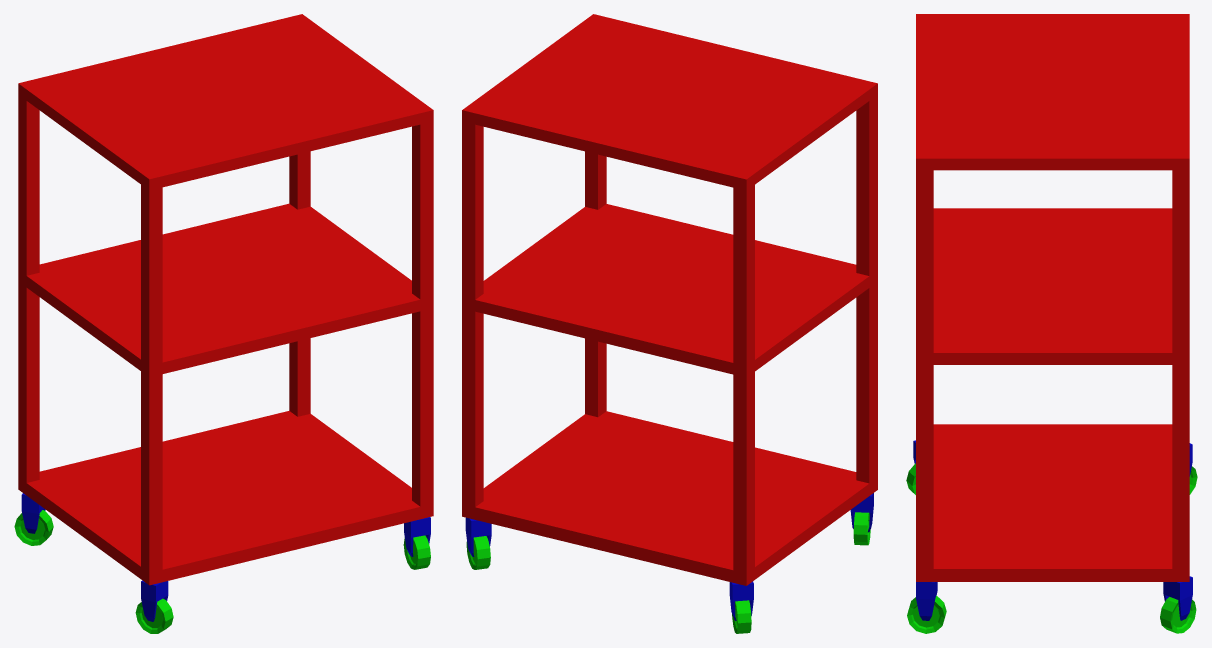
Rendered from Trolley.fbx.
The picture shows the model from 3 angles, left to right: view 1: azimuth 30°, elevation 25°; view 2: azimuth 150°, elevation 25°; view 3: azimuth 270°, elevation 25°; orthographic projection. The views are drawn at different scales.
Visible parts, largest first — view 1: Cylinder.008; view 2: Cylinder.008; view 3: Cylinder.008.
Boxes of the visible parts, <box> form: Cylinder.008: <box>14,14,433,633</box>; Cylinder.008: <box>462,14,877,633</box>; Cylinder.008: <box>906,14,1197,633</box>.
Size of the model in its own units: 206 by 308 by 170.
